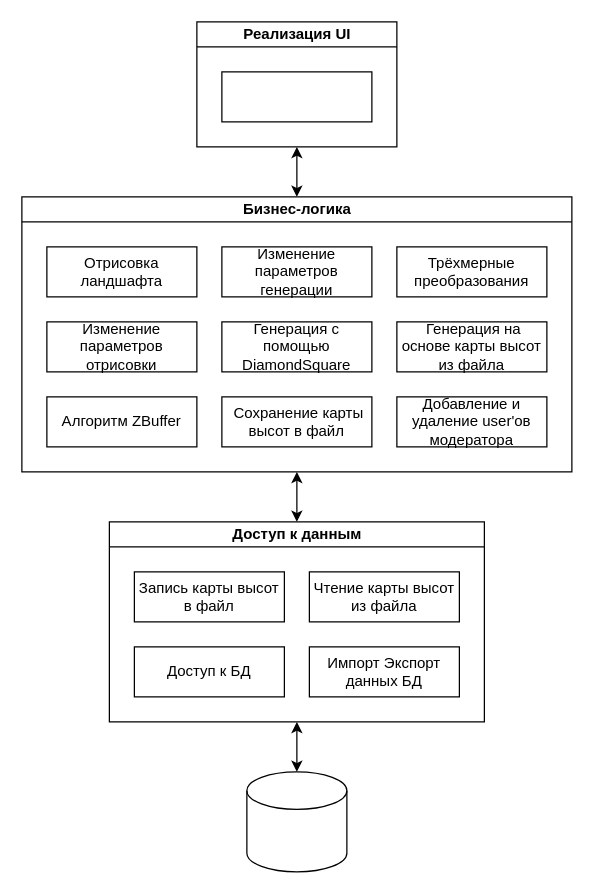
Image size: 594x894. Some labels were removed from this diagram. The centre of each missing label's shape, as x and y in pixels:
"Qt FrameWork" belongs at point (296, 96).
"База Данных" belongs at point (296, 821).
